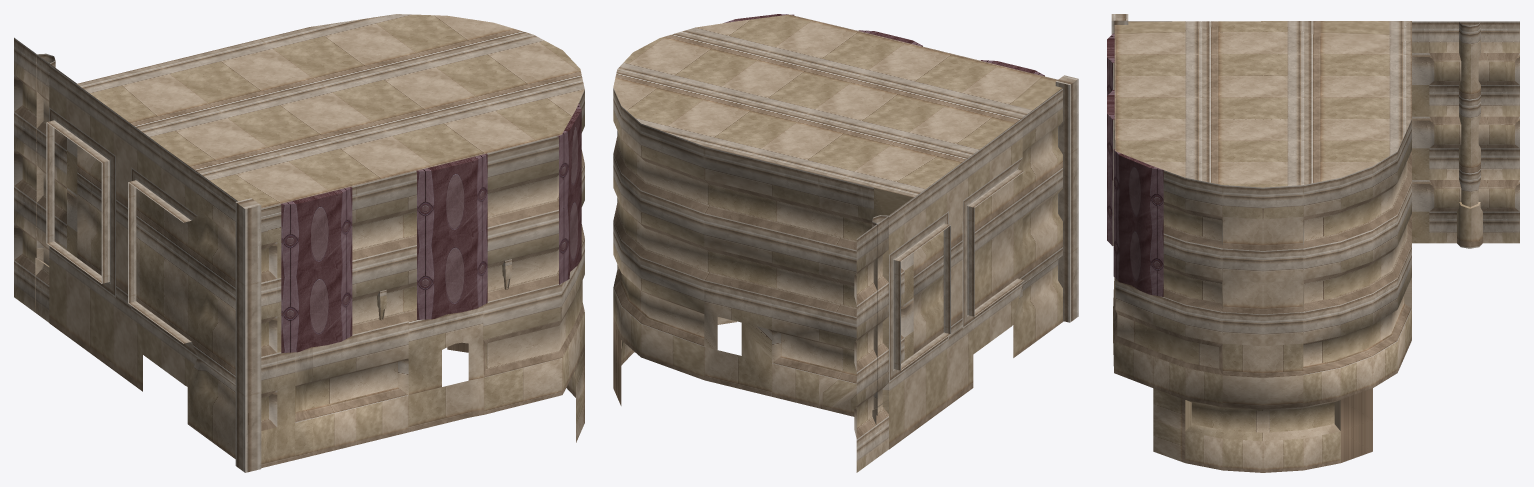
The model's file is Cor1_bldg_walk_young_2.fbx.
3 views of the same model, side by side, from view 1: azimuth 30°, elevation 25°; view 2: azimuth 150°, elevation 25°; view 3: azimuth 270°, elevation 25° (orthographic). The views are drawn at different scales.
Parts seen in each view (by area): view 1: walkway_young_2, cor1_bldg_youngling_wlk_wall, polymsh1371, walk_insidewall2, walk_insidewall3, cube94; view 2: walkway_young_2, cor1_bldg_youngling_wlk_wall, walk_insidewall2, walk_insidewall3, cube94, polymsh1371; view 3: walkway_young_2, walk_insidewall3, polymsh1371, cor1_bldg_youngling_wlk_wall, cube94.
Boxes of the visible parts, x1=… form: walkway_young_2: x1=77, y1=14, x2=584, y2=467; cor1_bldg_youngling_wlk_wall: x1=35, y1=53, x2=197, y2=391; polymsh1371: x1=280, y1=103, x2=581, y2=352; walk_insidewall2: x1=77, y1=145, x2=237, y2=458; walk_insidewall3: x1=14, y1=37, x2=77, y2=322; cube94: x1=235, y1=198, x2=261, y2=472; walkway_young_2: x1=613, y1=14, x2=1061, y2=416; cor1_bldg_youngling_wlk_wall: x1=872, y1=118, x2=1024, y2=449; walk_insidewall2: x1=913, y1=88, x2=1063, y2=357; walk_insidewall3: x1=854, y1=198, x2=913, y2=472; cube94: x1=1055, y1=75, x2=1078, y2=322; polymsh1371: x1=723, y1=14, x2=1044, y2=76; walkway_young_2: x1=1113, y1=21, x2=1411, y2=472; walk_insidewall3: x1=1412, y1=21, x2=1519, y2=243; polymsh1371: x1=1107, y1=33, x2=1163, y2=296; cor1_bldg_youngling_wlk_wall: x1=1457, y1=21, x2=1482, y2=248; cube94: x1=1111, y1=14, x2=1128, y2=245.
Size of what is drawn, in the model's own units: 4592 by 3654 by 4718.
